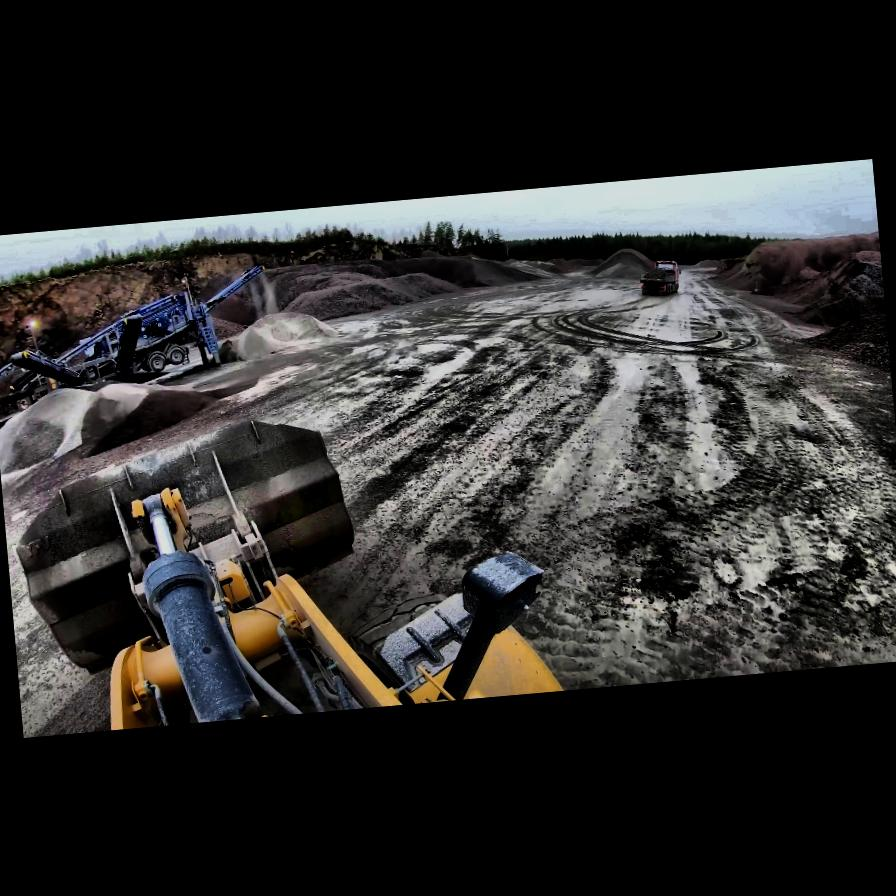anchor: (128, 484, 195, 560)
pile of gravel: (207, 239, 570, 330), (694, 228, 888, 358), (0, 370, 229, 469), (228, 306, 340, 362)
